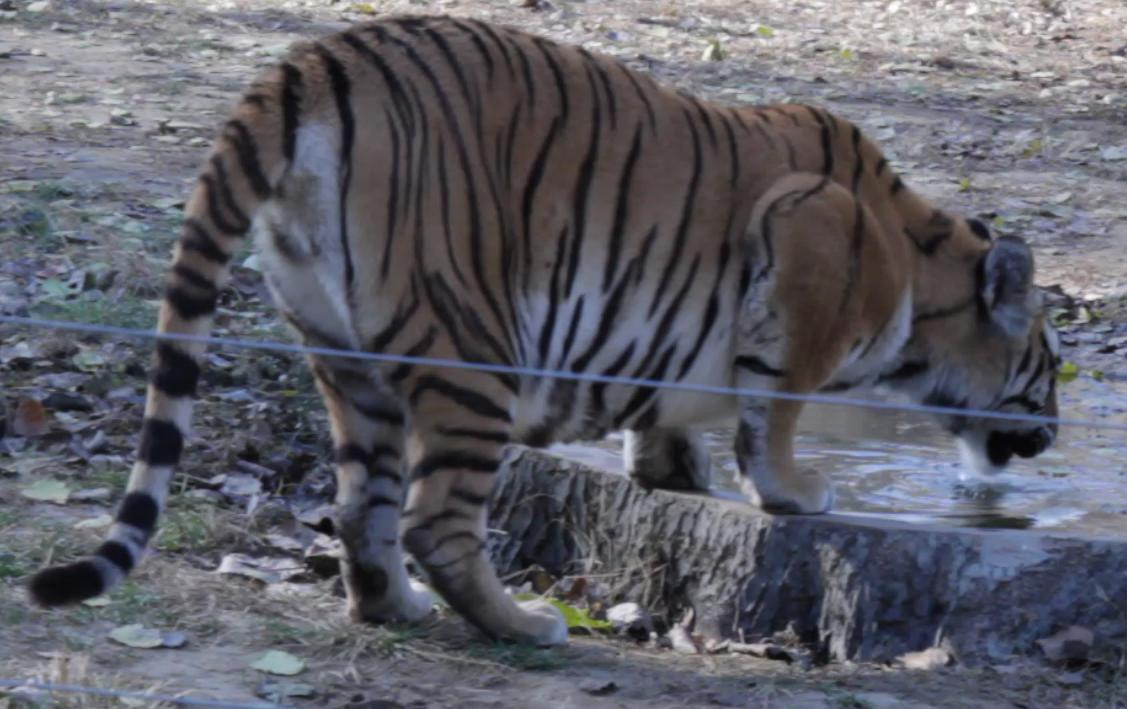tiger: (159, 16, 1056, 641)
